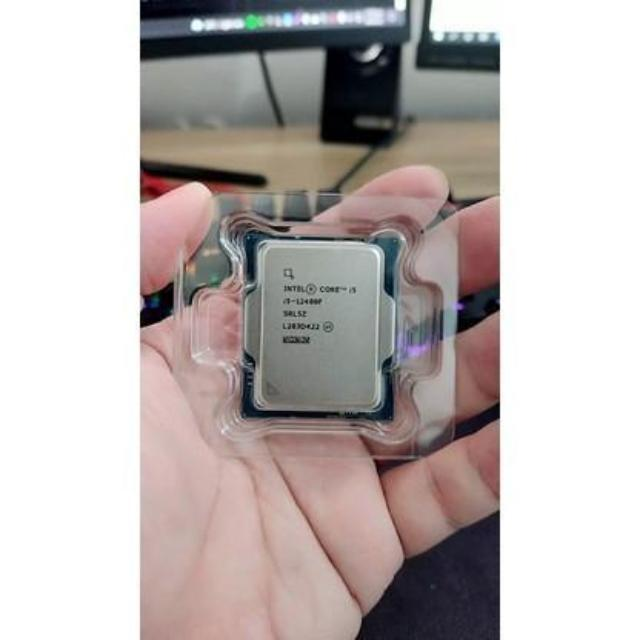CPU: (246, 232, 394, 423)
